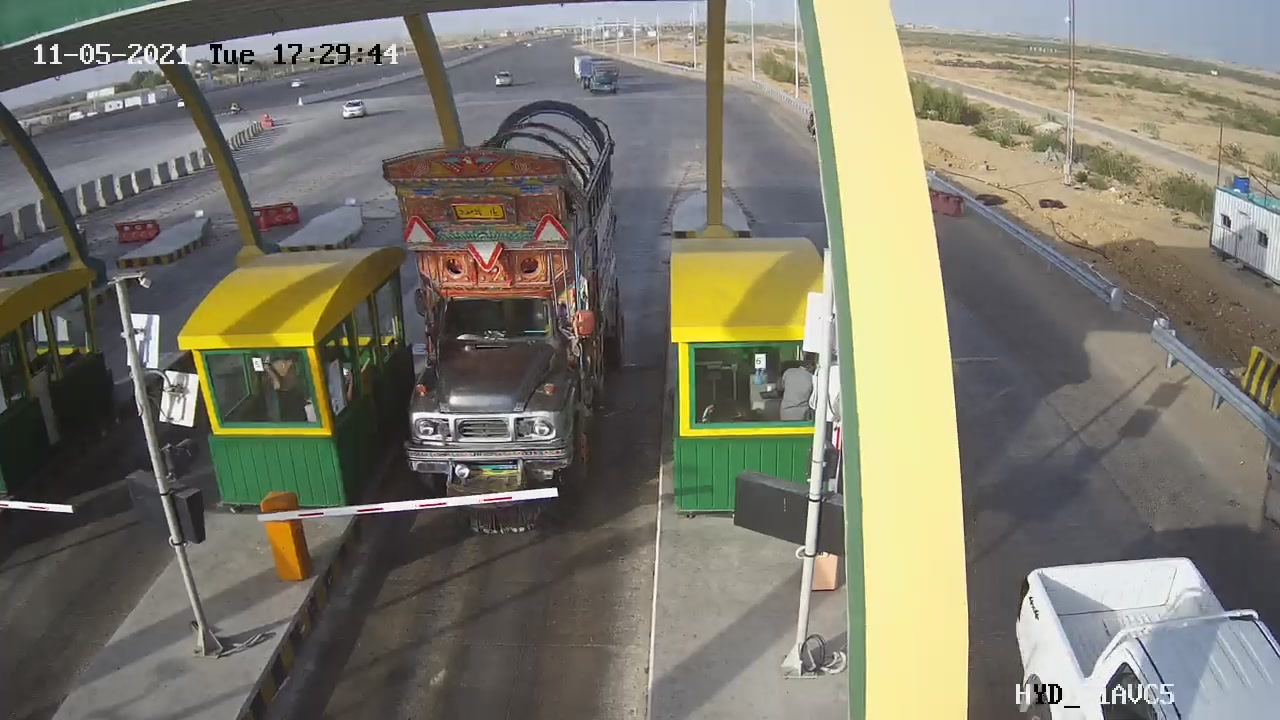F5: (359, 90, 664, 556)
